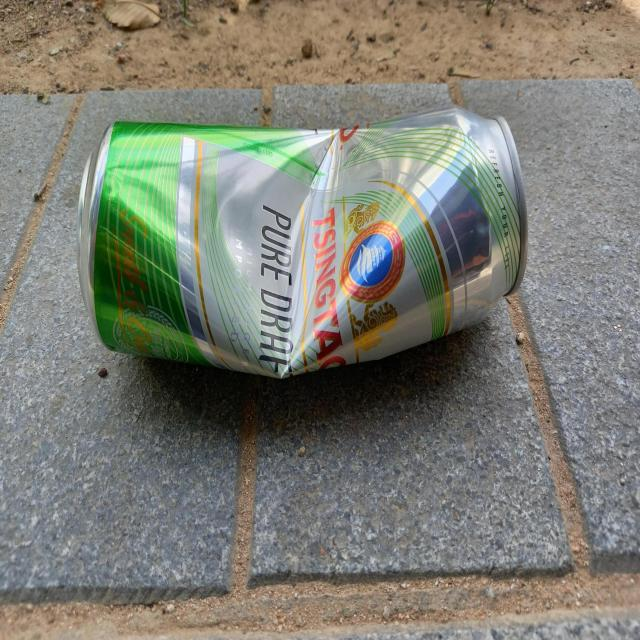can: (77, 106, 528, 378)
